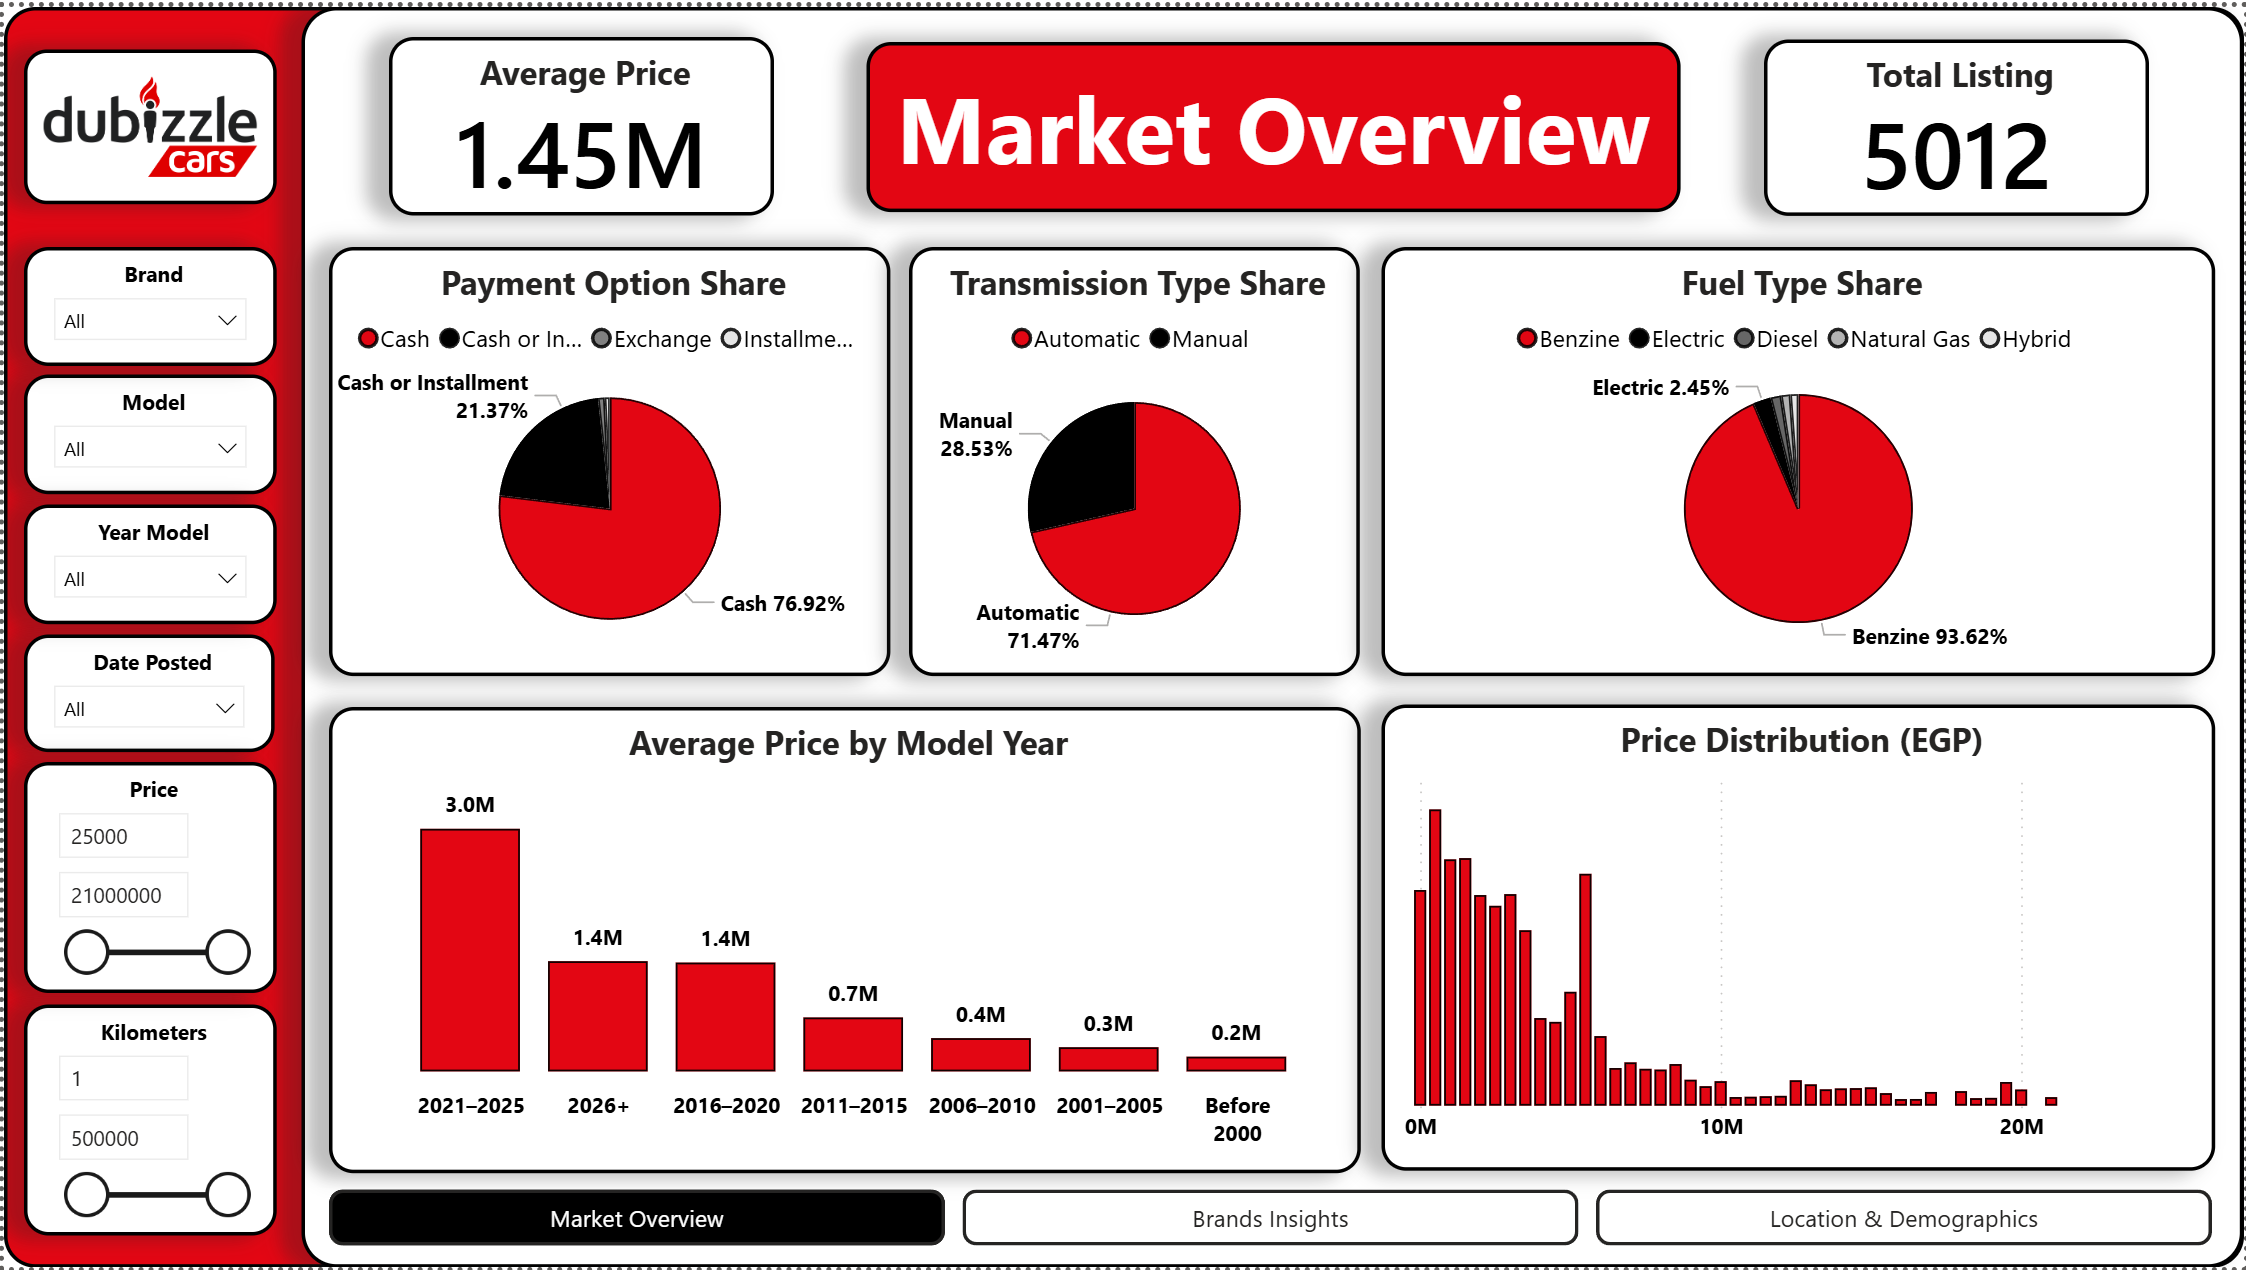

What the dashboard file says about the page in this screenshot:
{"tool":"powerbi","page":{"name":"Market Overview","canvas":[1280,720],"ordinal":0},"visuals":[{"type":"shape","box":[0,0,1280,720.3],"z":0},{"type":"shape","box":[170.4,0,1109.6,720.3],"z":1000},{"type":"image","box":[11.2,24.9,144.3,88.3],"z":2000},{"type":"textbox","box":[492.6,19.9,465.2,97],"z":3000},{"type":"card","title":"Average Price","fields":{"Values":["Dax_Measures.Average Price"]},"box":[220.2,17.4,220.2,102],"z":4000},{"type":"card","title":"Total Listing","fields":{"Values":["Dax_Measures.Total Listings"]},"box":[1006.4,18.7,220.2,100.8],"z":5000},{"type":"clusteredColumnChart","title":"Average Price by Model Year","fields":{"Category":["dubizzle_cleaned_dataset.ModelYearGroup"],"Y":["Avg(dubizzle_cleaned_dataset.price)"]},"box":[185.3,399.3,589.6,266.2],"z":6000},{"type":"clusteredColumnChart","title":"Price Distribution (EGP)","fields":{"Y":["Sum(dubizzle_cleaned_dataset.price)"],"Category":["dubizzle_cleaned_dataset.price (bins)"]},"box":[787.4,399.1,476.4,266.2],"z":7000},{"type":"pieChart","title":"Payment Option Share","fields":{"Category":["dubizzle_cleaned_dataset.payment_option"],"Y":["Dax_Measures.Total Listings"]},"box":[185.3,136.8,320.9,245.1],"z":8000},{"type":"pieChart","title":"Transmission Type Share","fields":{"Category":["dubizzle_cleaned_dataset.transmission"],"Y":["CountNonNull(dubizzle_cleaned_dataset.transmission)"]},"box":[517.5,136.8,257.5,245.1],"z":9000},{"type":"pieChart","title":"Fuel Type Share","fields":{"Y":["CountNonNull(dubizzle_cleaned_dataset.fuel_type)"],"Category":["dubizzle_cleaned_dataset.fuel_type"]},"box":[787.4,136.8,476.4,245.1],"z":10000},{"type":"pageNavigator","box":[185.3,675.5,1078.5,32.3],"z":11000},{"type":"slicer","title":"Date Posted","fields":{"Values":["dubizzle_cleaned_dataset.date_posted_category"]},"box":[12,359.1,143.1,67.2],"z":12000},{"type":"slicer","title":"Kilometers","fields":{"Values":["dubizzle_cleaned_dataset.kilometers"]},"box":[11.4,569.7,144.3,131.9],"z":13000},{"type":"slicer","title":"Model","fields":{"Values":["dubizzle_cleaned_dataset.model"]},"box":[11.4,210.6,144.3,68.4],"z":14000},{"type":"slicer","title":"Brand","fields":{"Values":["dubizzle_cleaned_dataset.brand"]},"box":[11.4,136.8,144.3,68],"z":15000},{"type":"slicer","title":"Price","fields":{"Values":["dubizzle_cleaned_dataset.price"]},"box":[11.4,432.1,144.3,131.9],"z":16000},{"type":"slicer","title":"Year Model","fields":{"Values":["dubizzle_cleaned_dataset.year"]},"box":[11.4,284.9,144.3,68.4],"z":17000}]}

Visuals, with their boxes in screenshot pixels (x1, y1, x2, y2), scaled from the page's 1280x720 canvas onto the 2246x1270 screenshot:
shape: select_region(0, 0, 2245, 1269)
shape: select_region(299, 0, 2245, 1269)
image: select_region(20, 44, 273, 200)
textbox: select_region(864, 35, 1681, 206)
"Average Price" card: select_region(386, 31, 773, 211)
"Total Listing" card: select_region(1766, 33, 2152, 211)
"Average Price by Model Year" clusteredColumnChart: select_region(325, 704, 1360, 1174)
"Price Distribution (EGP)" clusteredColumnChart: select_region(1382, 704, 2218, 1174)
"Payment Option Share" pieChart: select_region(325, 241, 888, 674)
"Transmission Type Share" pieChart: select_region(908, 241, 1360, 674)
"Fuel Type Share" pieChart: select_region(1382, 241, 2218, 674)
pageNavigator: select_region(325, 1192, 2218, 1248)
"Date Posted" slicer: select_region(21, 633, 272, 752)
"Kilometers" slicer: select_region(20, 1005, 273, 1238)
"Model" slicer: select_region(20, 371, 273, 492)
"Brand" slicer: select_region(20, 241, 273, 361)
"Price" slicer: select_region(20, 762, 273, 995)
"Year Model" slicer: select_region(20, 503, 273, 623)
